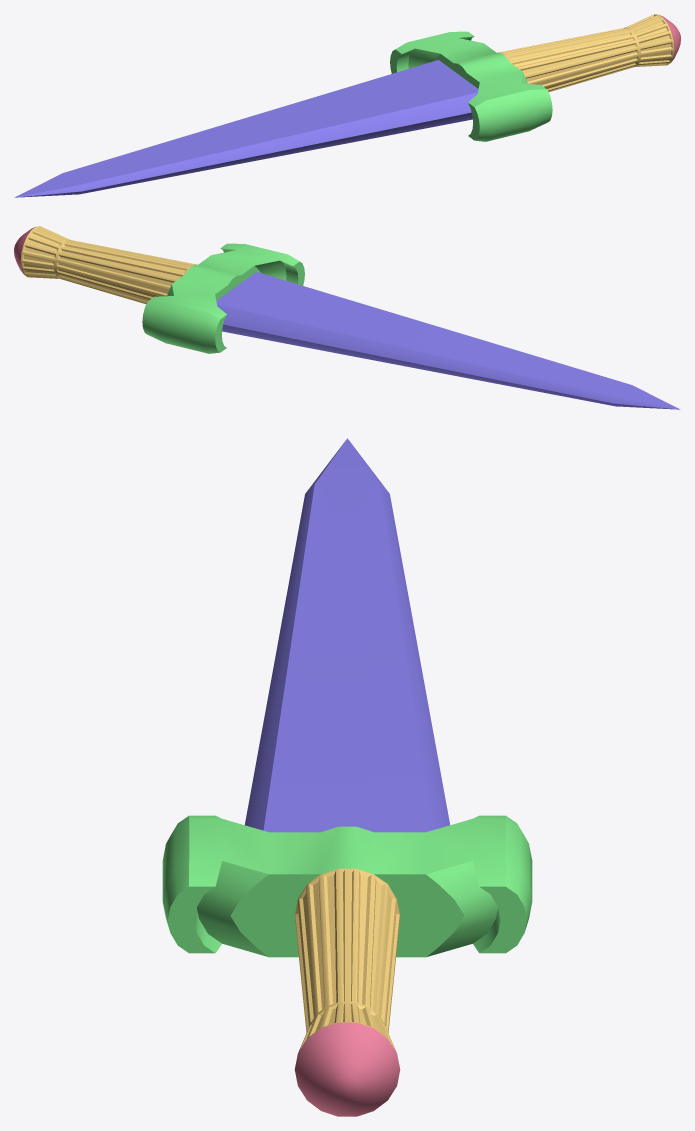
Rendered from Knife.fbx.
The picture shows the model from 3 angles, top to bottom: view 1: azimuth 30°, elevation 25°; view 2: azimuth 150°, elevation 25°; view 3: azimuth 270°, elevation 25°; orthographic projection. The views are drawn at different scales.
Parts seen in each view (by area): view 1: Knife; view 2: Knife; view 3: Knife.
Boxes of the visible parts, <box> form: Knife: <box>14,14,680,197</box>; Knife: <box>14,226,680,409</box>; Knife: <box>162,438,532,1116</box>.
Bounding box in the file's own units: 58.21 × 3.94 × 14.
